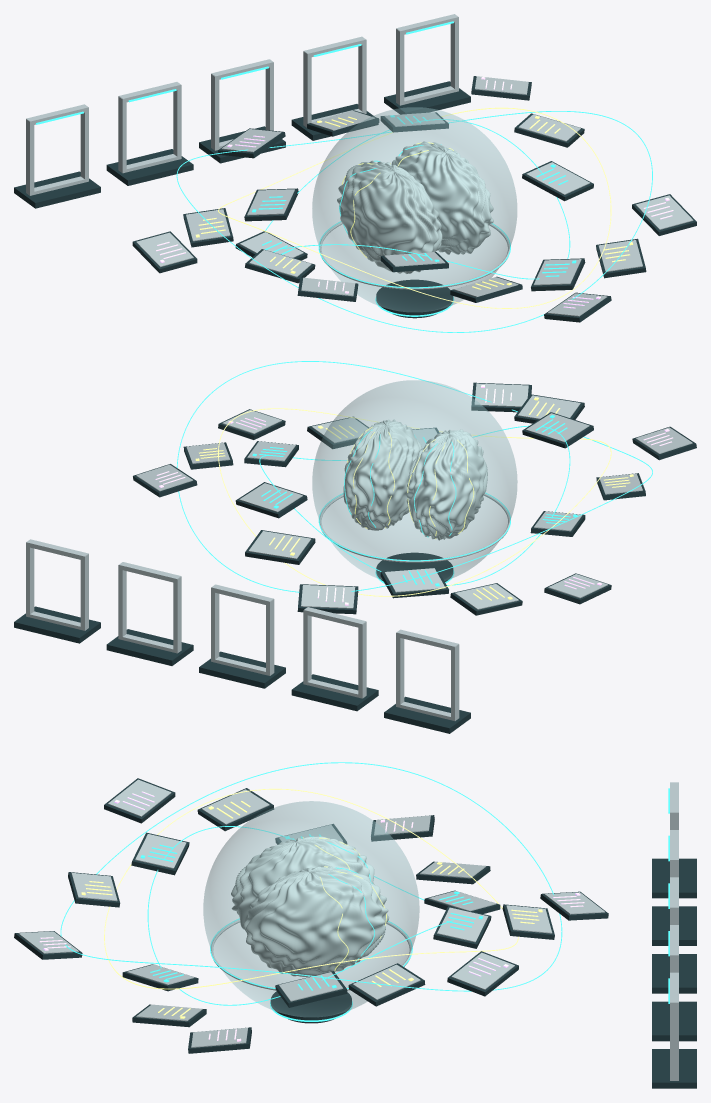
File: context-vessel.glb
3 renders of one model, top to bottom at view 1: azimuth 30°, elevation 25°; view 2: azimuth 150°, elevation 25°; view 3: azimuth 270°, elevation 25°, orthographic. The views are drawn at different scales.
Visible parts, largest first — view 1: Orb_shell, Cortex_left, Cortex_right, Core pedestal, Gate foot.001, Gate foot, Gate foot.004, Meridian_2, Meridian_1, Leaf face.008, Leaf face.017, Leaf face.016 (+41 smaller); view 2: Orb_shell, Cortex_left, Cortex_right, Gate foot.001, Gate foot.003, Gate foot.002, Gate foot.004, Gate foot, Meridian_2, Leaf face.005, Core pedestal, Leaf face.014 (+33 smaller); view 3: Orb_shell, Cortex_right, Cortex_left, Meridian_2, Gate foot.004, Gate foot.003, Gate foot, Core pedestal, Gate foot.002, Gate foot.001, Meridian_1, Leaf face.011 (+35 smaller).
Part boxes in pixels (box(x1,y1,x2,y2)): Orb_shell: box(312, 107, 516, 311); Cortex_left: box(337, 160, 442, 273); Cortex_right: box(391, 141, 493, 254); Core pedestal: box(376, 279, 453, 315); Gate foot.001: box(106, 149, 193, 185); Gate foot: box(14, 171, 100, 208); Gate foot.004: box(384, 81, 470, 114); Meridian_2: box(176, 111, 652, 332); Meridian_1: box(218, 107, 611, 308); Leaf face.008: box(136, 232, 193, 267); Leaf face.017: box(635, 195, 693, 229); Leaf face.016: box(598, 240, 642, 271); Orb_shell: box(312, 380, 517, 580); Cortex_left: box(406, 429, 487, 540); Cortex_right: box(343, 419, 422, 530); Gate foot.001: box(291, 674, 378, 711); Gate foot.003: box(106, 629, 193, 665); Gate foot.002: box(199, 651, 285, 688); Gate foot.004: box(14, 606, 100, 643); Gate foot: box(384, 696, 470, 733); Meridian_2: box(176, 361, 652, 592); Leaf face.005: box(301, 585, 355, 608); Core pedestal: box(376, 552, 453, 581); Leaf face.014: box(474, 383, 528, 406); Orb_shell: box(203, 801, 419, 1016); Cortex_right: box(243, 866, 388, 976); Cortex_left: box(231, 836, 374, 929); Meridian_2: box(60, 762, 562, 991); Gate foot.004: box(652, 1049, 696, 1088); Gate foot.003: box(652, 1001, 696, 1041); Gate foot: box(652, 858, 696, 898); Core pedestal: box(270, 991, 351, 1020); Gate foot.002: box(652, 954, 696, 993); Gate foot.001: box(652, 906, 696, 945); Meridian_1: box(104, 788, 518, 989); Leaf face.011: box(108, 779, 171, 816).
Bounding box in the file's own units: 7.57 × 3.02 × 9.41.
